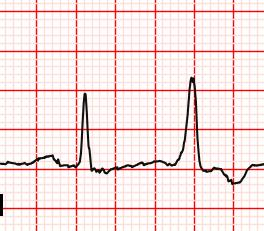T inversion: (214, 159, 259, 189)
